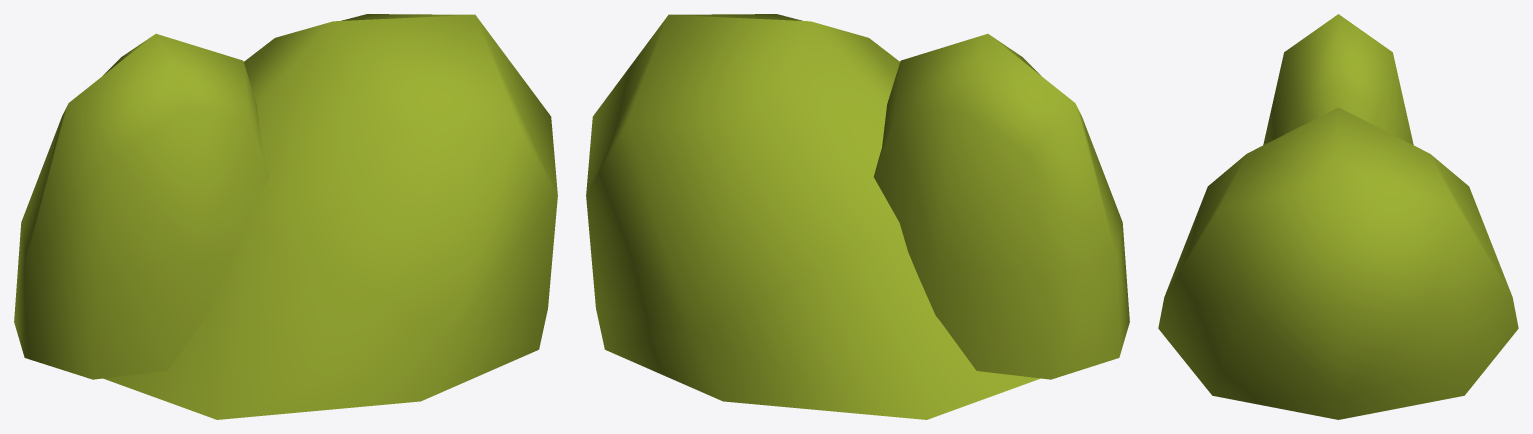
File: Grass_3.010.fbx
The picture shows the model from 3 angles, left to right: view 1: azimuth 30°, elevation 25°; view 2: azimuth 150°, elevation 25°; view 3: azimuth 270°, elevation 25°; orthographic projection. The views are drawn at different scales.
Visible parts, largest first — view 1: Grass_3.010; view 2: Grass_3.010; view 3: Grass_3.010.
Part boxes in pixels (bbox=[...]): Grass_3.010: bbox=[14, 14, 557, 419]; Grass_3.010: bbox=[586, 14, 1129, 419]; Grass_3.010: bbox=[1158, 14, 1518, 419].
Bounding box in the file's own units: 84.78 × 52.21 × 63.24.
